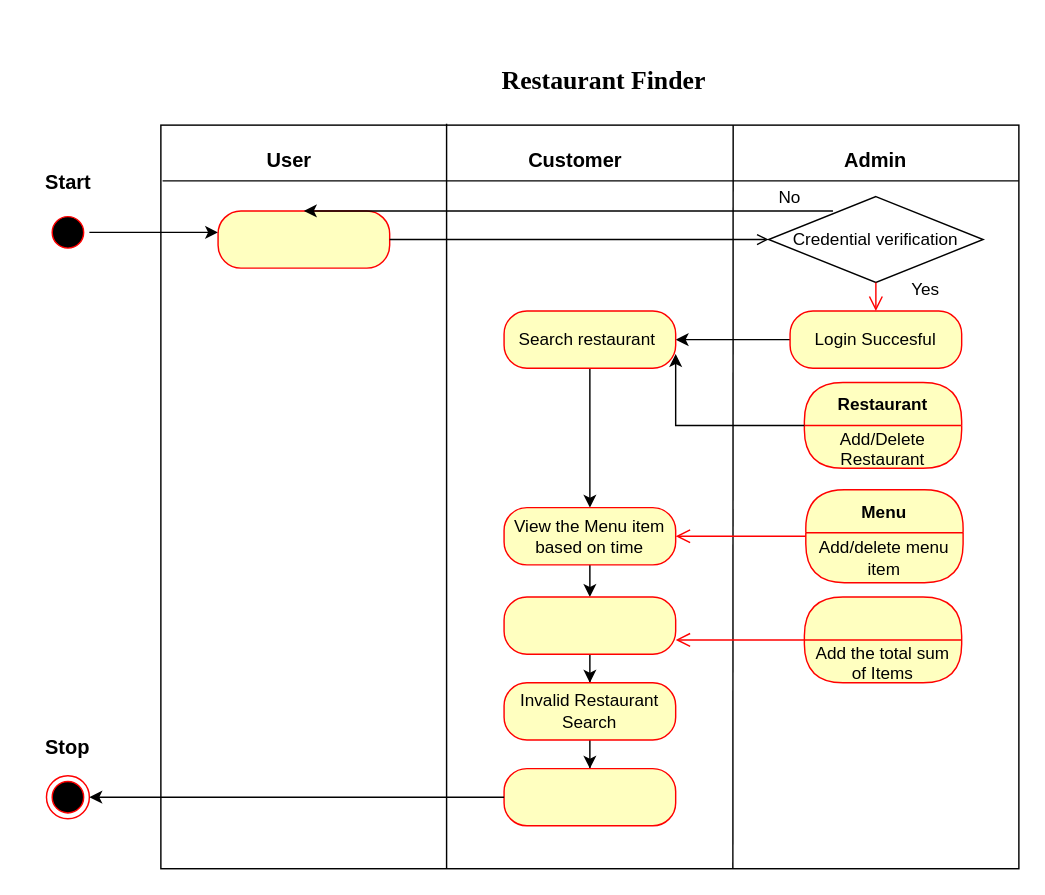
Some shapes in this 1045 by 895 pixel diagram are drawn without their labels. The shapes that lost their labels are listed below. From the top down, each one's box as (x1, y1, x2, y2) in pixels, then its label:
(217, 209, 390, 268): Register/Login
(503, 596, 676, 654): Select the required menu item with respective price
(803, 596, 962, 683): displayPrice
(503, 767, 676, 826): Output the exception
